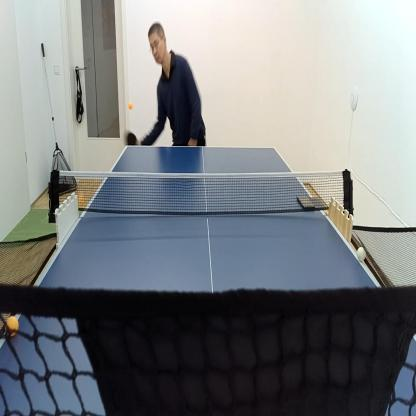Ball: (5, 314, 20, 339), (356, 244, 367, 263), (77, 191, 85, 207), (128, 100, 134, 112)
